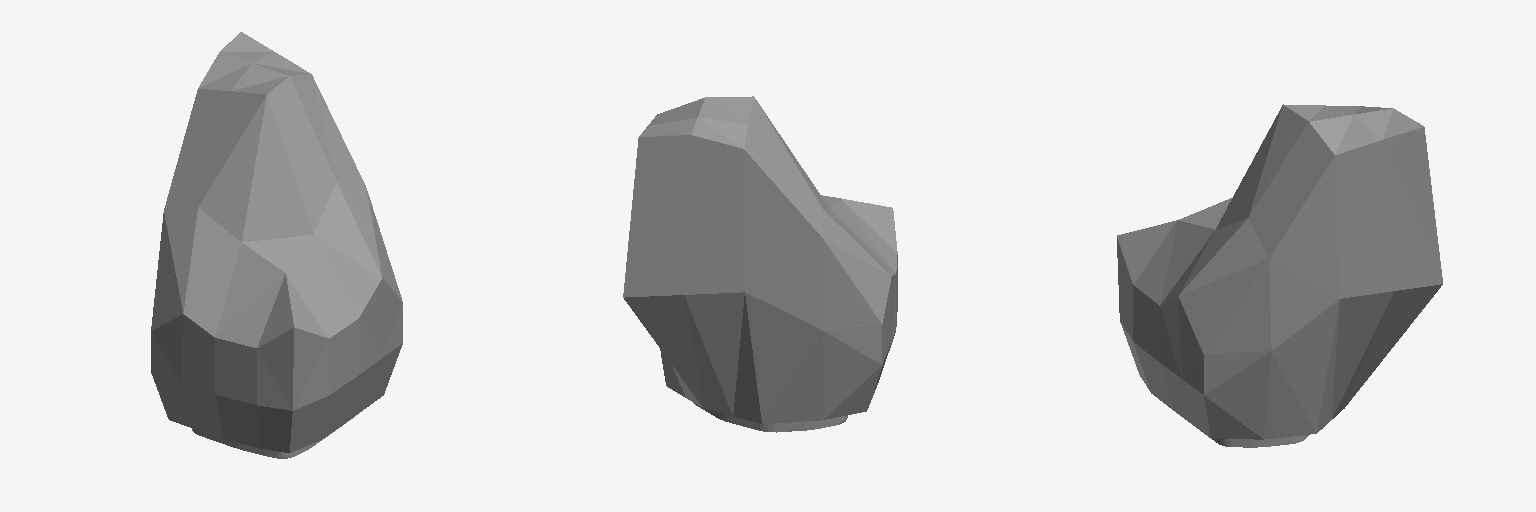
File: RBte.obj
3 renders of one model, left to right at view 1: azimuth 30°, elevation 25°; view 2: azimuth 150°, elevation 25°; view 3: azimuth 270°, elevation 25°, orthographic.
Visible parts, largest first — view 1: 立方体.026; view 2: 立方体.026; view 3: 立方体.026.
Part boxes in pixels (x1,y1,x2,y2): 立方体.026: (151, 32, 402, 458); 立方体.026: (623, 96, 897, 432); 立方体.026: (1117, 104, 1442, 447).
Size of the model in its own units: 0.3679 by 0.5048 by 0.4742.